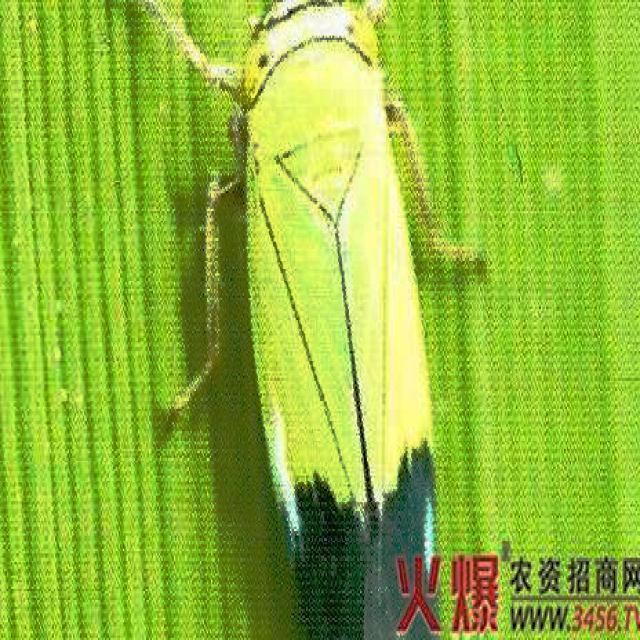green-leafhopper: (140, 0, 491, 640)
